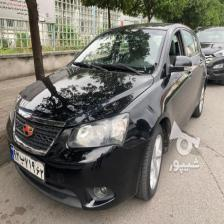plate: (9, 144, 44, 180)
